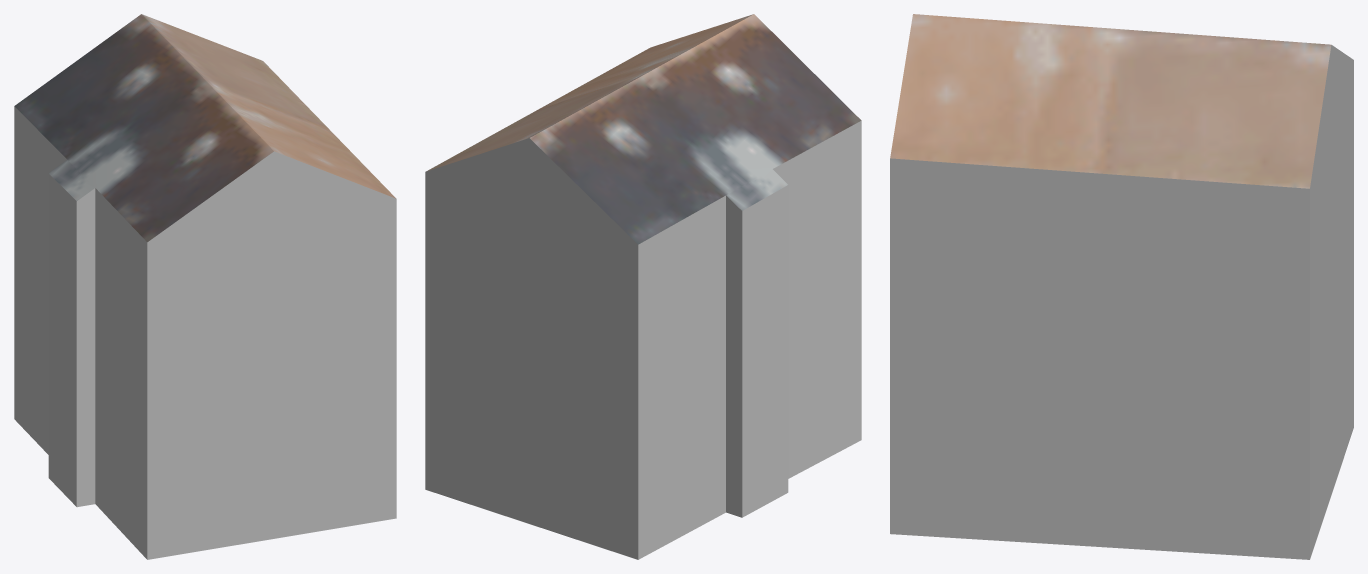
Rendered from DEBW_0010007Txhu.gltf.
3 renders of one model, left to right at view 1: azimuth 30°, elevation 25°; view 2: azimuth 150°, elevation 25°; view 3: azimuth 270°, elevation 25°, orthographic. The views are drawn at different scales.
Parts seen in each view (by area): view 1: Z_UP; view 2: Z_UP; view 3: Z_UP.
Boxes of the visible parts, left/top/right/bottom form: Z_UP: left=14, top=14, right=396, bottom=559; Z_UP: left=425, top=14, right=861, bottom=559; Z_UP: left=890, top=14, right=1353, bottom=559.
Bounding box in the file's own units: 12.48 × 16.83 × 15.53.
Materials: 2 (1 with a texture image).
